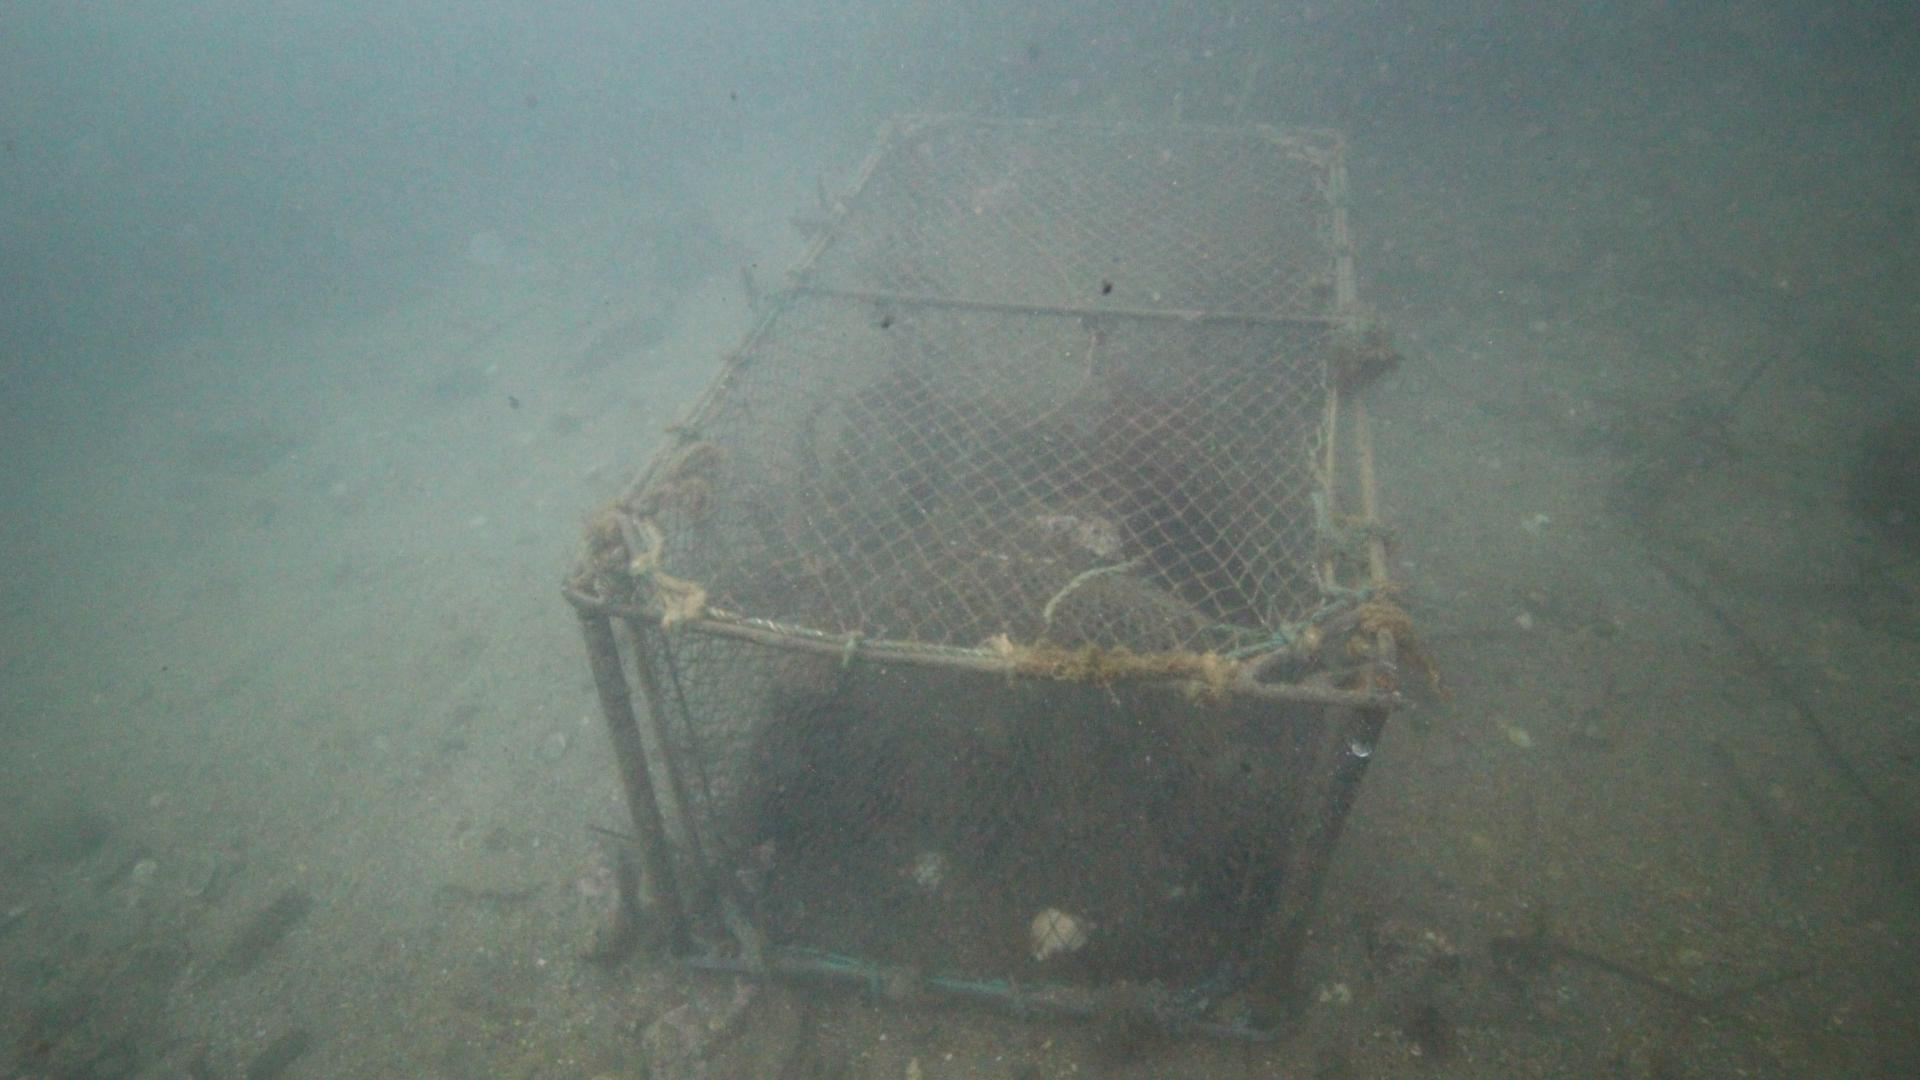rectangular fish trap: (563, 109, 1404, 1044)
